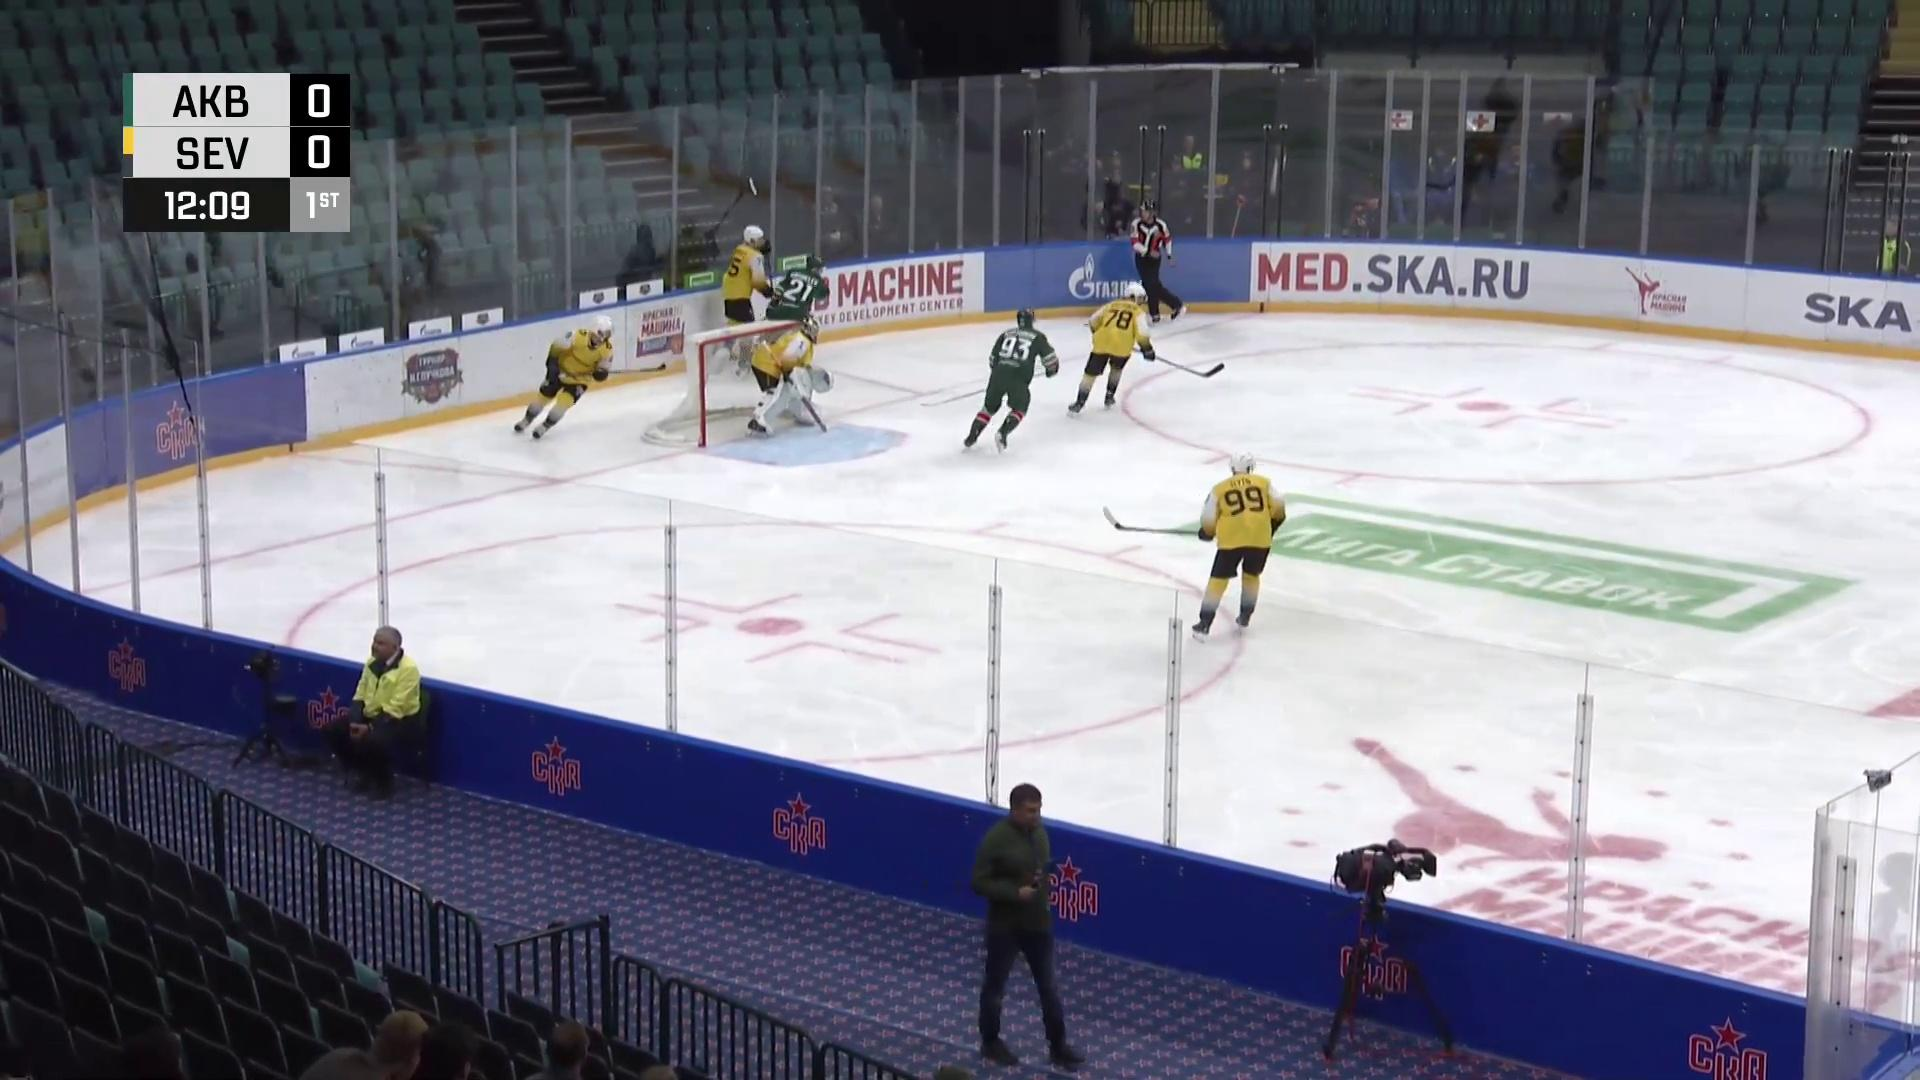ball: (1084, 323, 1089, 327)
